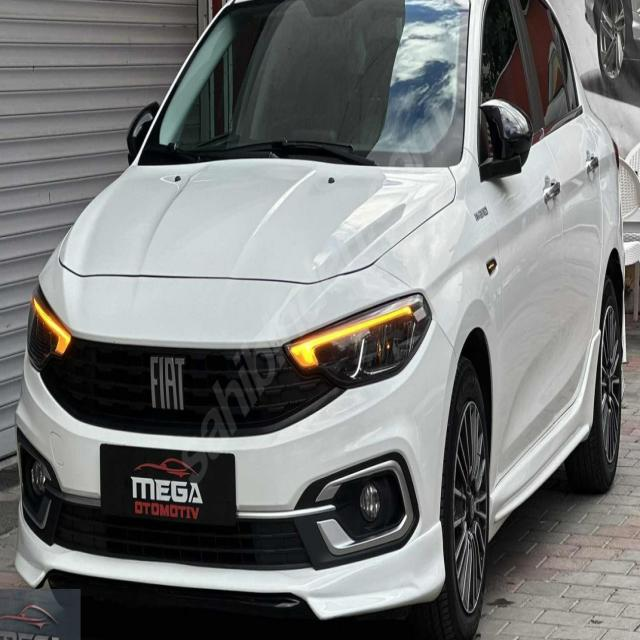fiat: (138, 341, 198, 426)
